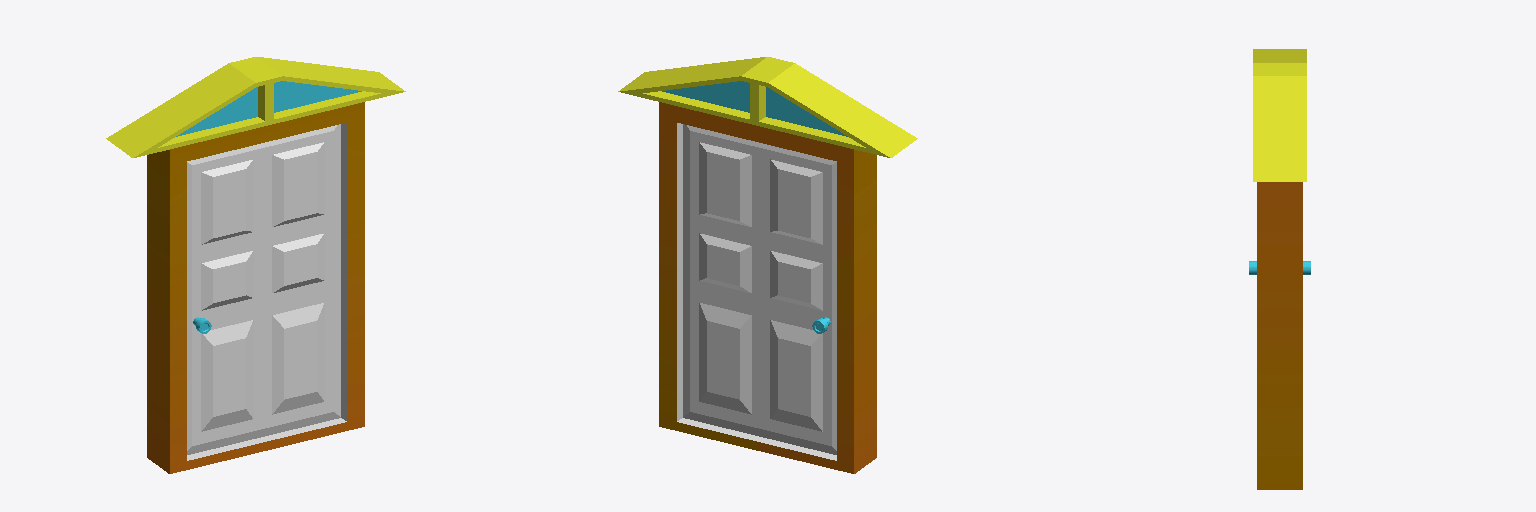
The picture shows the model from 3 angles: view 1: azimuth 30°, elevation 25°; view 2: azimuth 150°, elevation 25°; view 3: azimuth 270°, elevation 25°; orthographic projection.
Parts seen in each view (by area): view 1: Door; view 2: Door; view 3: Door.
Boxes of the visible parts, box(x1,y1,x2,y2) form: Door: box(106, 57, 405, 473); Door: box(618, 57, 917, 473); Door: box(1249, 49, 1310, 489).
Bounding box in the file's own units: 0.9677 × 1.26 × 0.189.
1 materials, 1 textured.